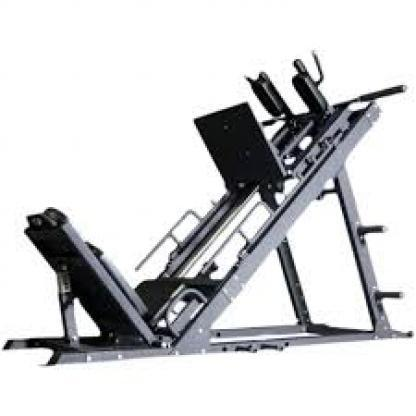leg press: (0, 39, 416, 375)
